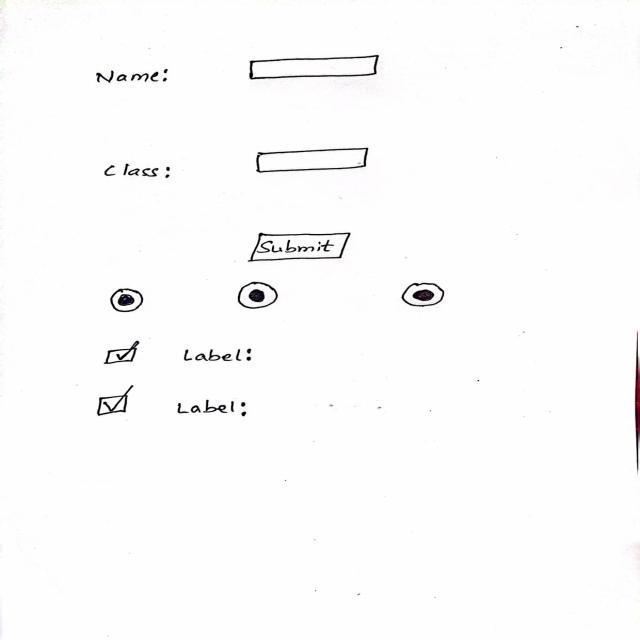radio: (234, 278, 286, 314), (84, 387, 139, 421), (98, 341, 152, 371), (399, 281, 449, 312), (112, 284, 148, 316)
textbox: (234, 48, 390, 89), (251, 142, 391, 179)
